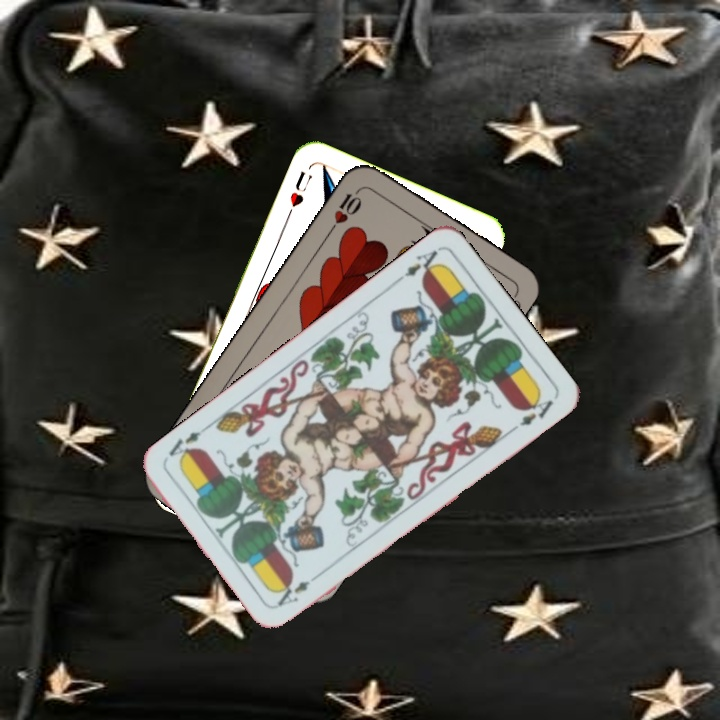EA: (273, 568, 324, 610), (391, 246, 444, 286)
H10: (325, 183, 365, 235)
HU: (283, 167, 315, 219)
